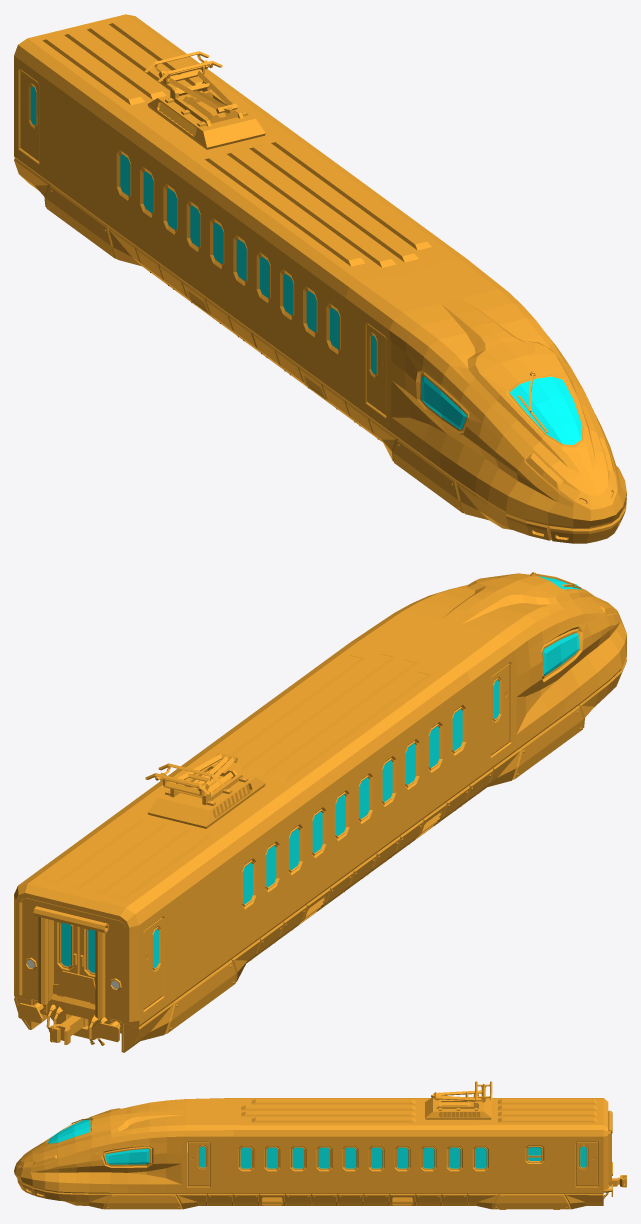
The model's file is SM_Train_Locomotive_Sakura_A.fbx.
3 views of the same model, one above another, from view 1: azimuth 30°, elevation 25°; view 2: azimuth 150°, elevation 25°; view 3: azimuth 270°, elevation 25° (orthographic). The views are drawn at different scales.
Visible parts, largest first — view 1: SM_Train_Locomotive_Sakura_A_Base; view 2: SM_Train_Locomotive_Sakura_A_Base, SM_Train_Locomotive_Sakura_A_Base_Joint_B; view 3: SM_Train_Locomotive_Sakura_A_Base.
Part boxes in pixels (x1,y1,x2,y2): SM_Train_Locomotive_Sakura_A_Base: (14,14,626,543); SM_Train_Locomotive_Sakura_A_Base: (14,572,626,1052); SM_Train_Locomotive_Sakura_A_Base_Joint_B: (50,1015,88,1044); SM_Train_Locomotive_Sakura_A_Base: (14,1081,612,1209).
Size of the model in its own units: 3.04 by 4.61 by 22.73.
